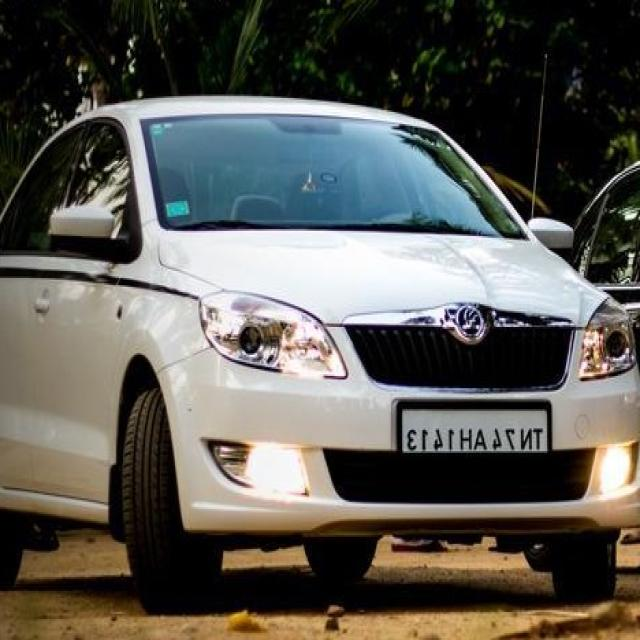number-plate: (379, 405, 553, 461)
